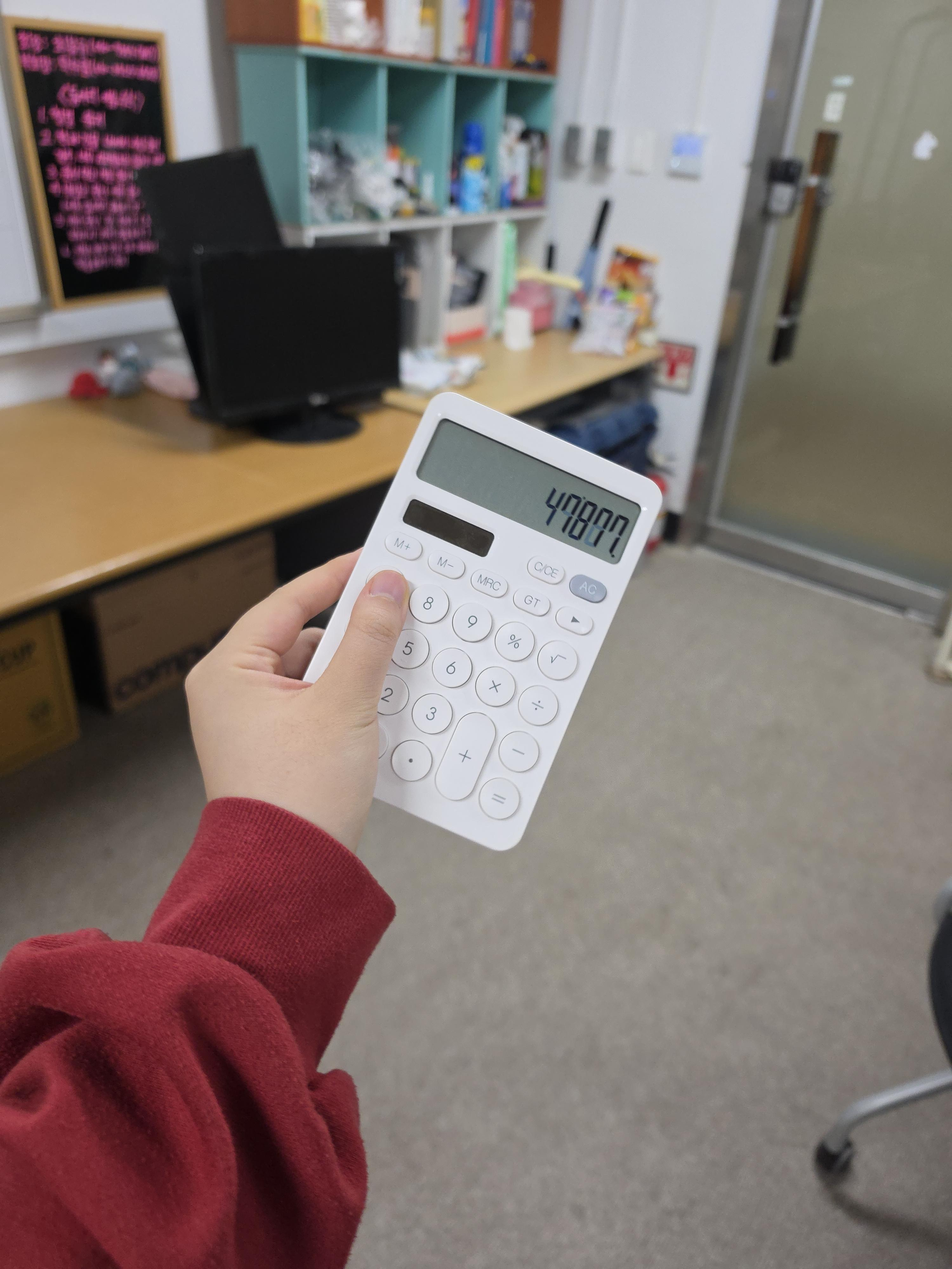calculator: (303, 391, 664, 851)
